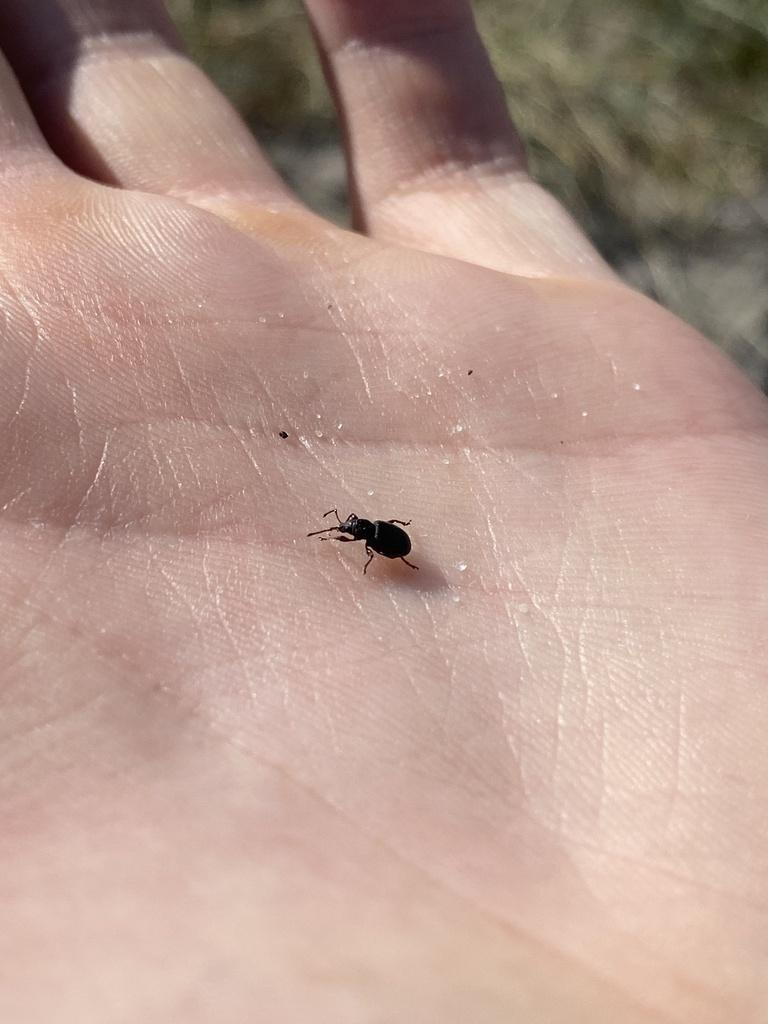weevils: (289, 471, 450, 613)
